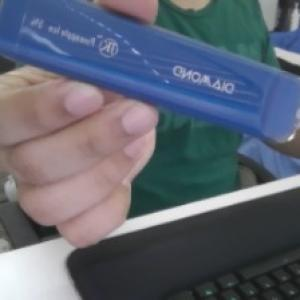Diamond-E-Ciggirate: (0, 0, 300, 146)
